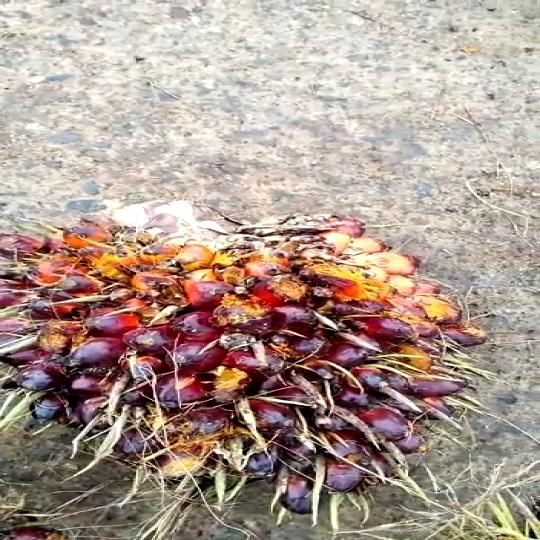masak: (0, 200, 470, 516)
